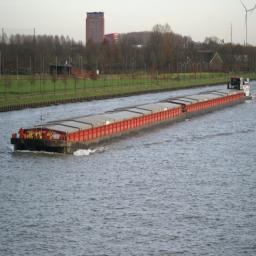tugboat: (227, 75, 255, 107)
